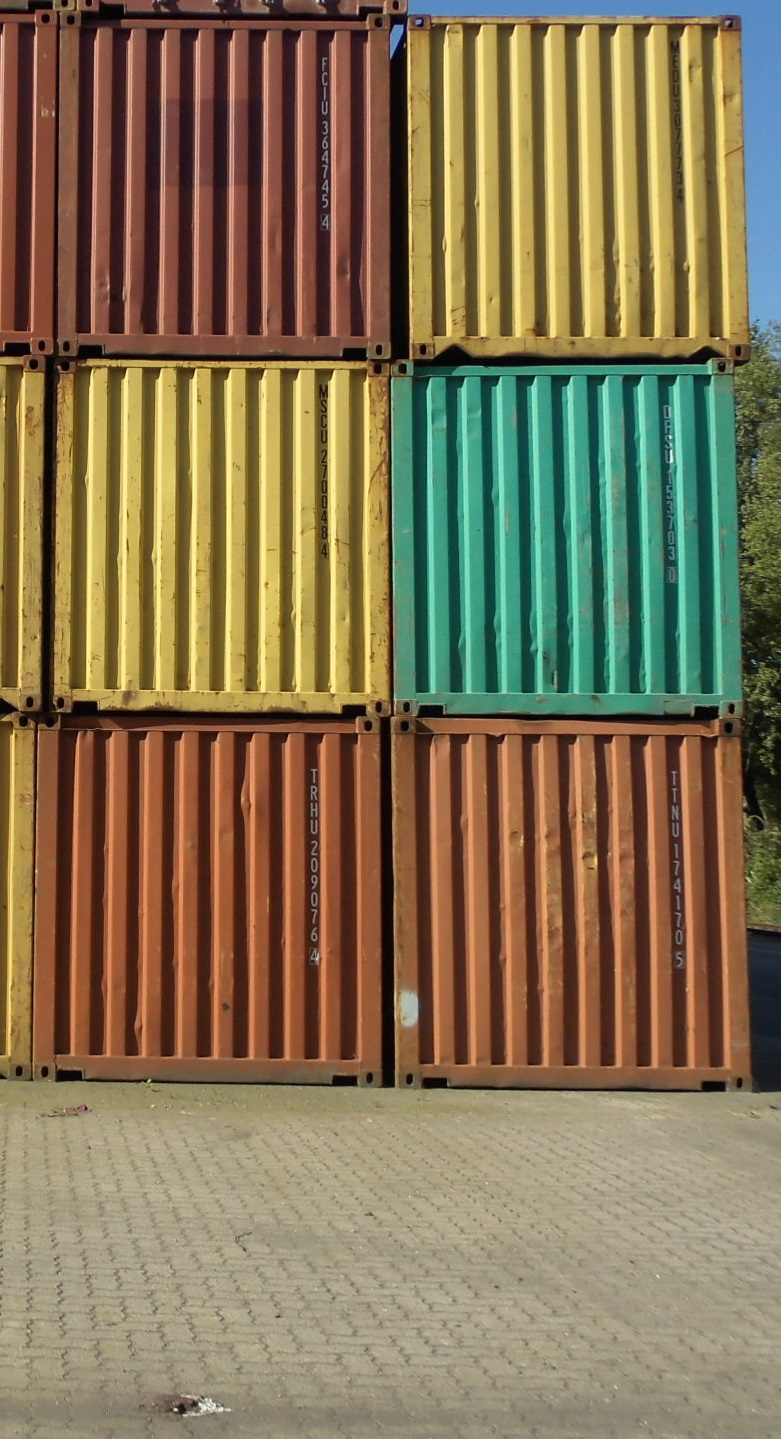container_no_door: (394, 716, 760, 1094), (34, 716, 383, 1085), (393, 360, 740, 720), (41, 355, 388, 714), (403, 11, 751, 357), (64, 18, 394, 353)
